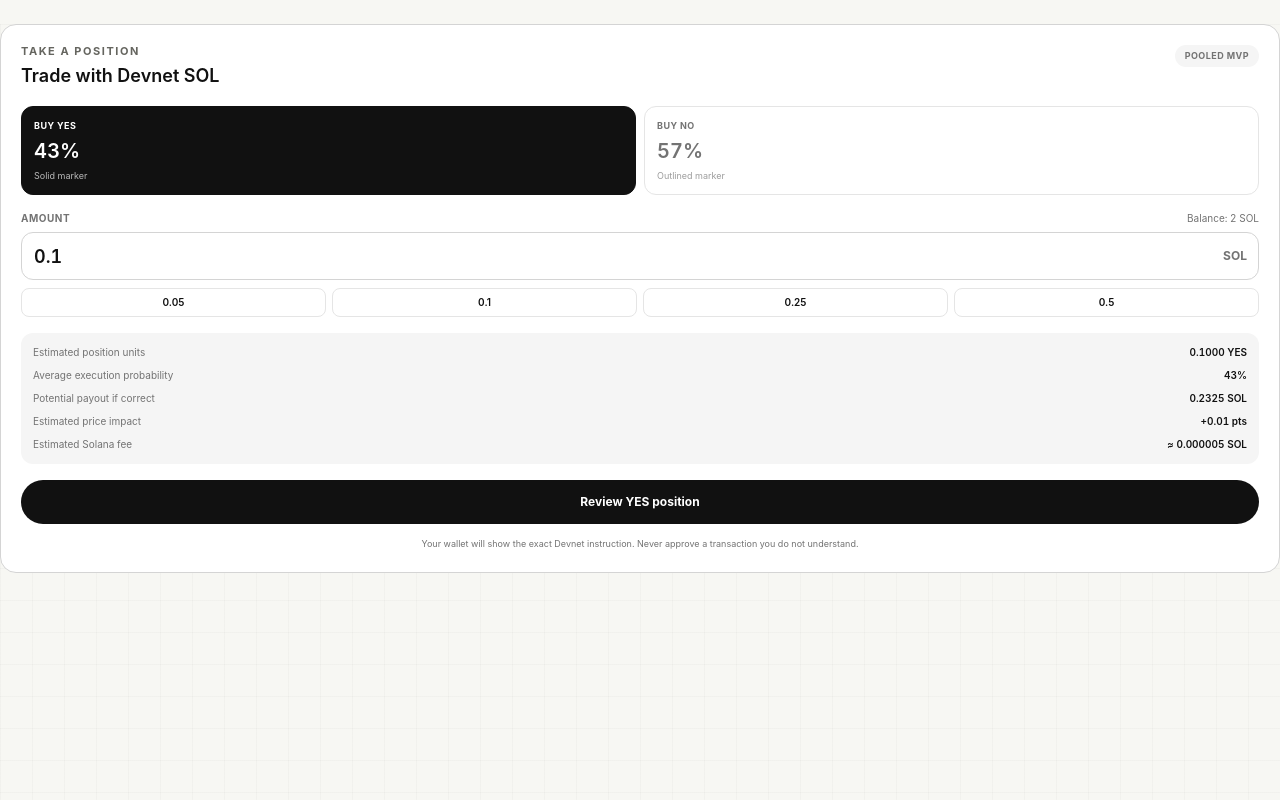
Test: prediction purchase controls › displays a successful transaction and records the resulting position
This screenshot has width=1280, height=800.
Click the button with test id "review-transaction" at (640, 502), box [21,480,1259,524]
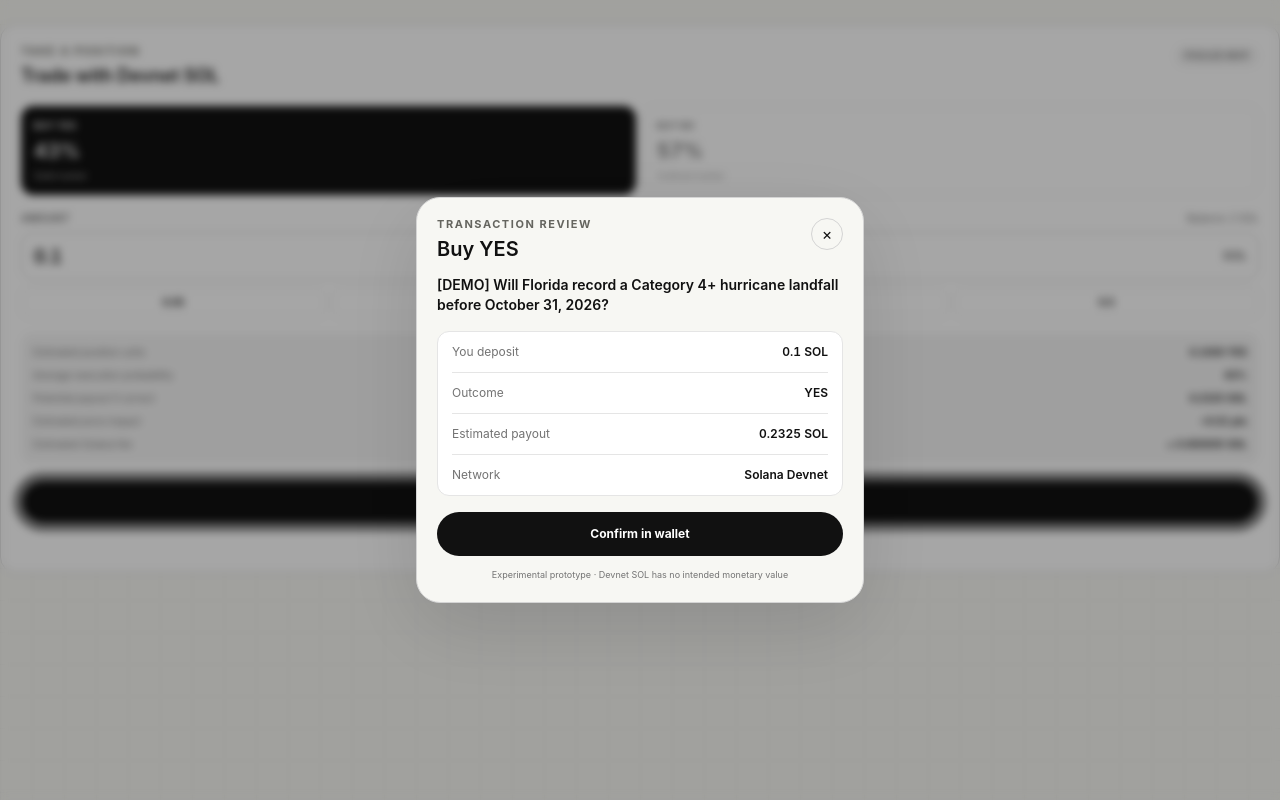
Click the button with test id "confirm-transaction" at (640, 534), box [437,512,843,556]
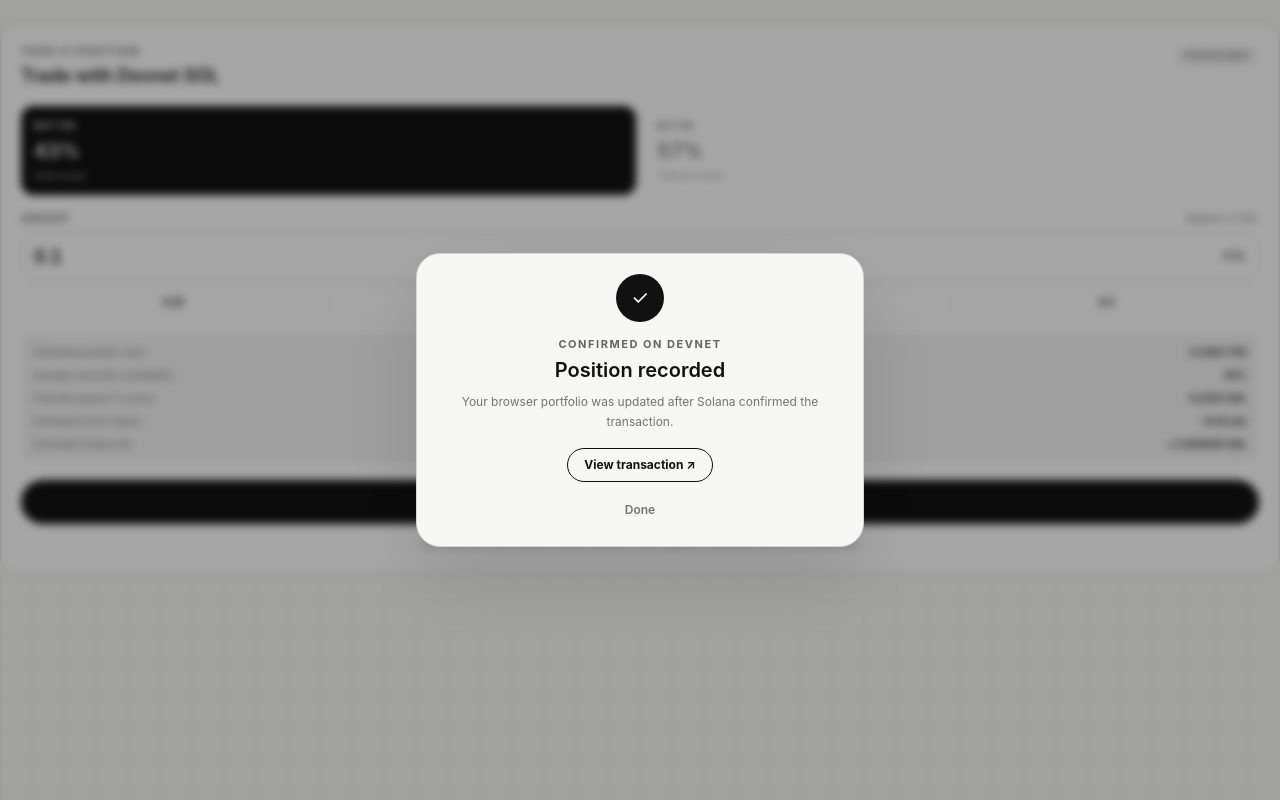
Now the heading "Position recorded" is shown, box [555,358,725,382]
